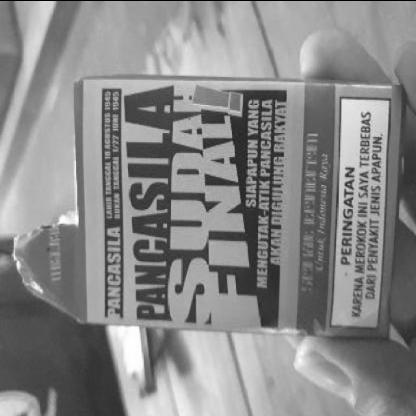objects: (83, 75, 403, 336)
